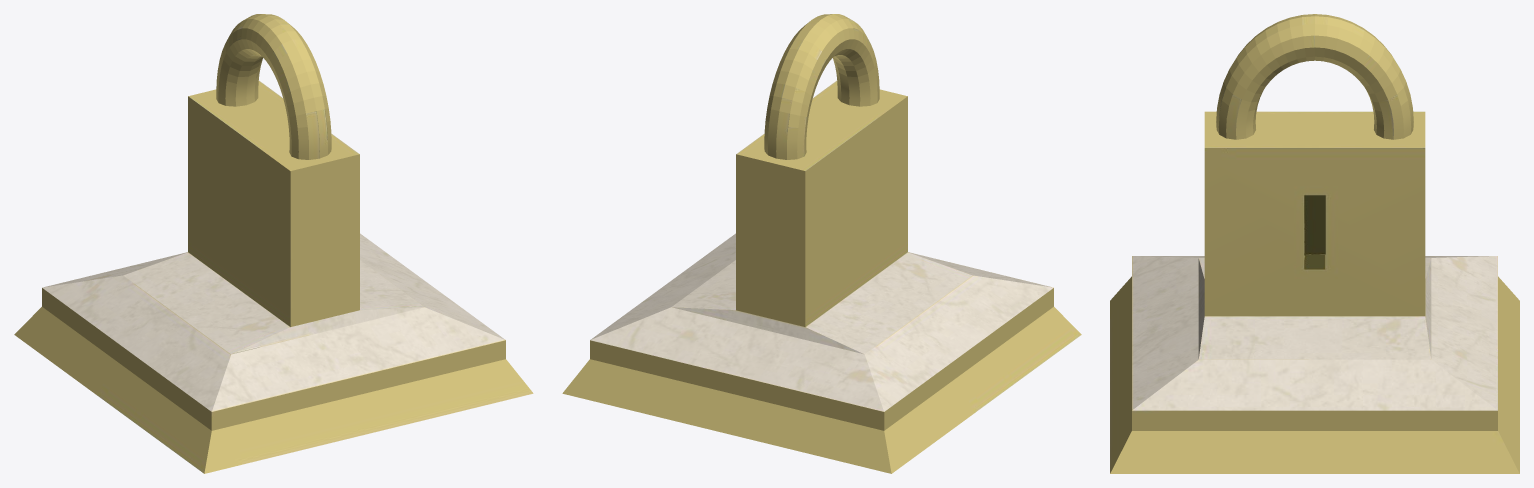
The model's file is lockCompressed.glb.
3 renders of one model, left to right at view 1: azimuth 30°, elevation 25°; view 2: azimuth 150°, elevation 25°; view 3: azimuth 270°, elevation 25°, orthographic. The views are drawn at different scales.
Visible parts, largest first — view 1: Cube.001; view 2: Cube.001; view 3: Cube.001.
Part boxes in pixels (x1=…): Cube.001: x1=14, y1=14, x2=533, y2=473; Cube.001: x1=562, y1=14, x2=1081, y2=473; Cube.001: x1=1110, y1=14, x2=1519, y2=473.
Bounding box in the file's own units: 1 × 1 × 1.
1 material, 1 textured.
